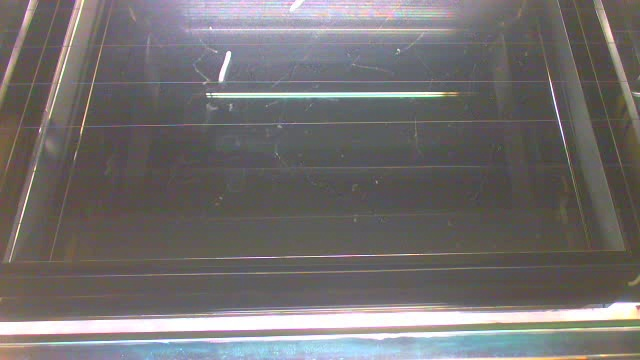Alfa: (217, 50, 232, 84), (286, 1, 306, 14)
